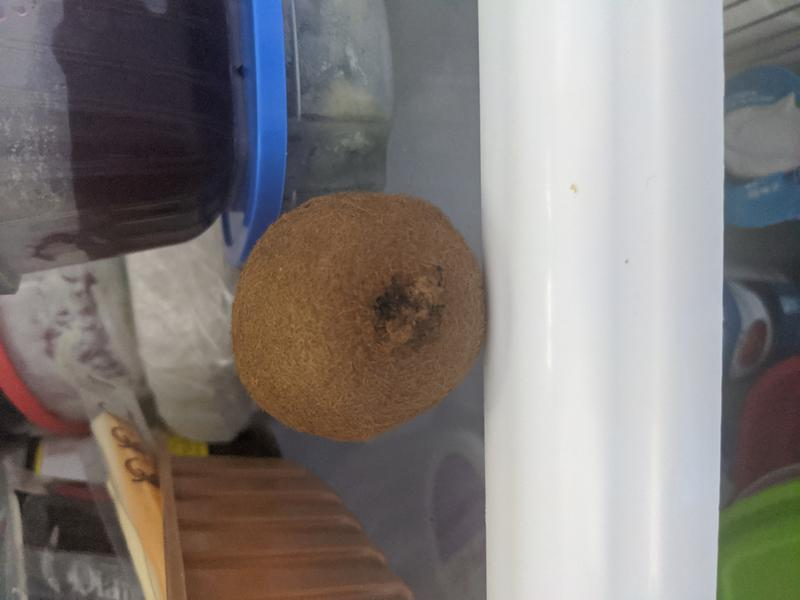kiwi: (231, 192, 489, 442)
